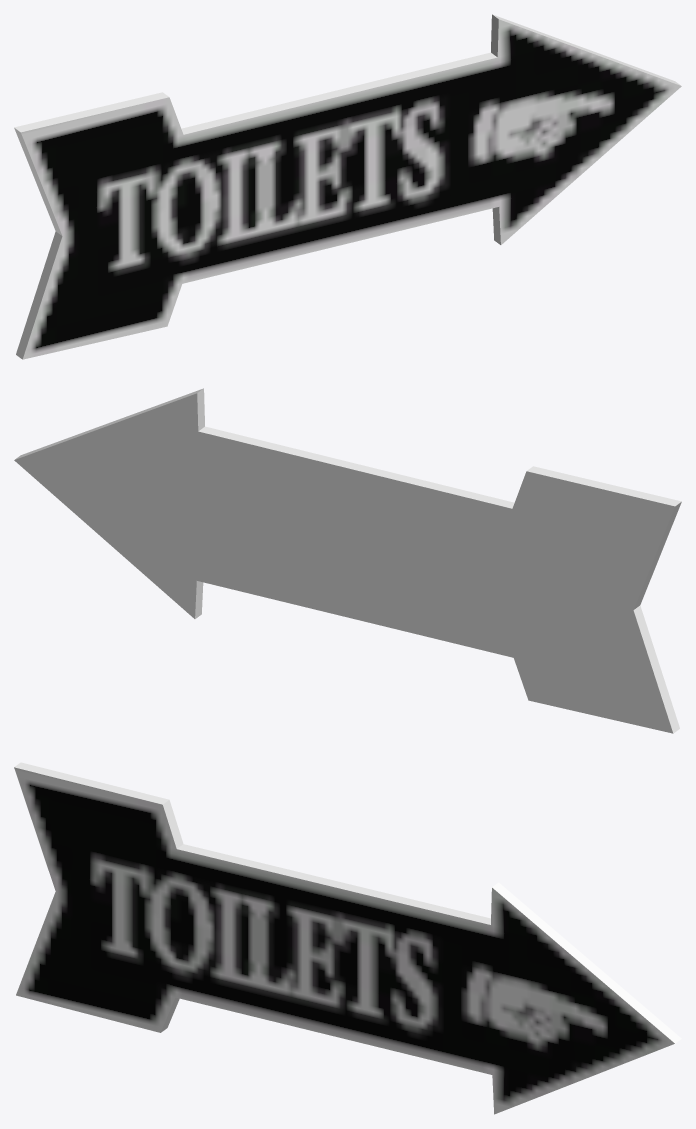
Rendered from SM_Sign_Toilet_03R.glb.
3 views of the same model, one above another, from view 1: azimuth 30°, elevation 25°; view 2: azimuth 150°, elevation 25°; view 3: azimuth 330°, elevation 25° (orthographic).
Parts seen in each view (by area): view 1: SM_Sign_Toilet_03R; view 2: SM_Sign_Toilet_03R; view 3: SM_Sign_Toilet_03R.
Part boxes in pixels (bbox=[...]): SM_Sign_Toilet_03R: bbox=[14, 14, 681, 359]; SM_Sign_Toilet_03R: bbox=[14, 388, 681, 733]; SM_Sign_Toilet_03R: bbox=[14, 762, 681, 1114].
Size of the model in its own units: 0.2703 by 0.0899 by 0.00483.
Materials: 1 (1 with a texture image).
